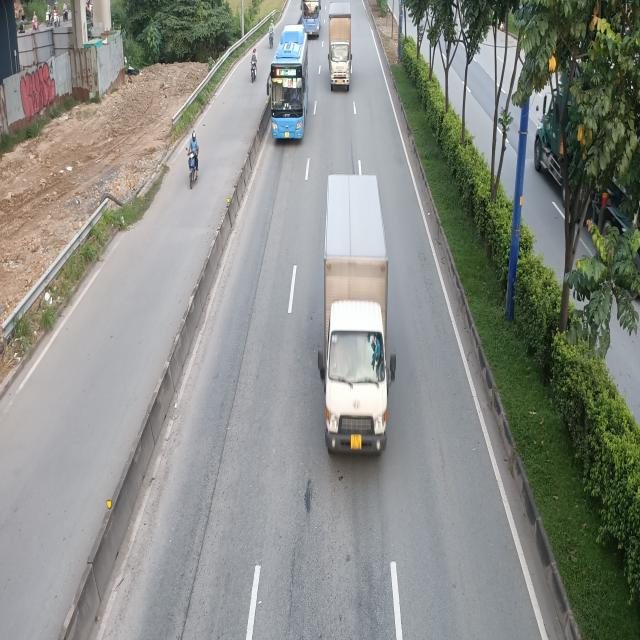coach: (268, 27, 310, 145), (302, 0, 323, 37)
truck: (314, 171, 395, 454), (329, 0, 354, 91)
